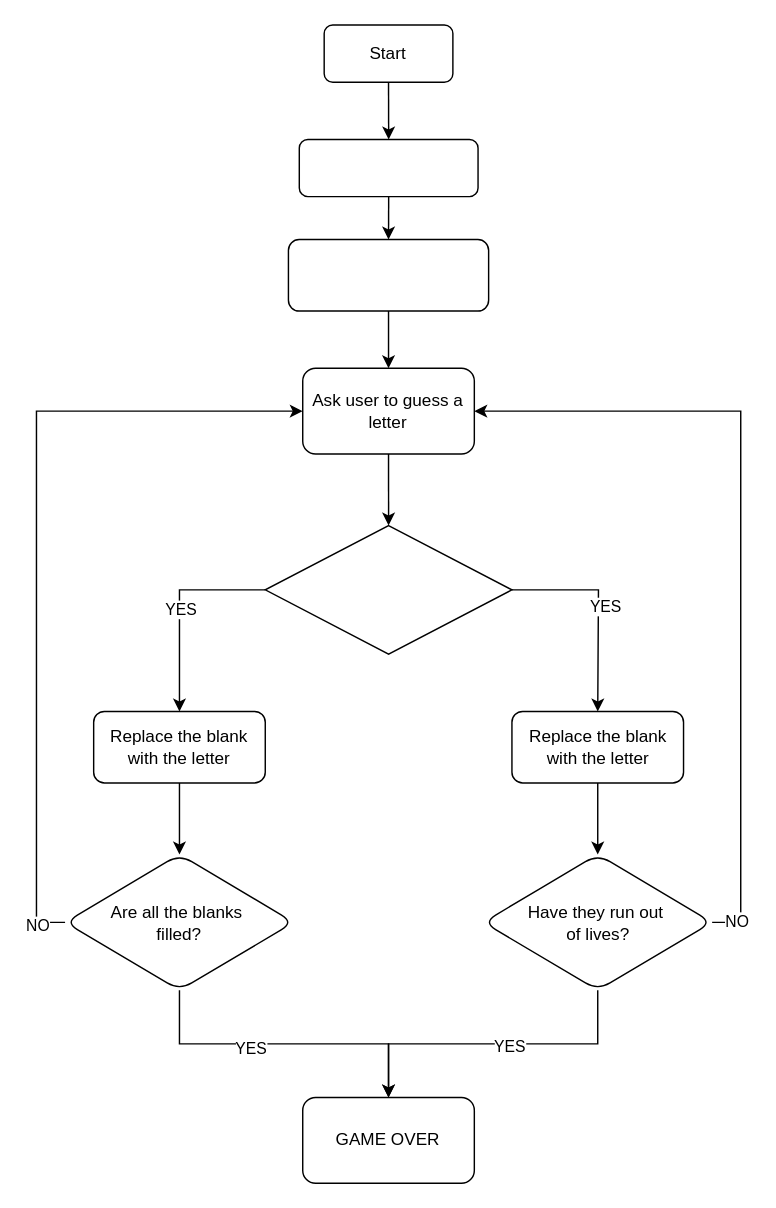
Some shapes in this 776 by 1208 pixel diagram are drawn without their labels. The shapes that lost their labels are listed below. From the top down, each one's box as (x1, y1, x2, y2) in pixels, then its label:
(298, 138, 478, 197): Generate a random word
(287, 238, 489, 311): Generate as many blanks as letters in word
(264, 524, 512, 654): Is the guessed letter In the word?
